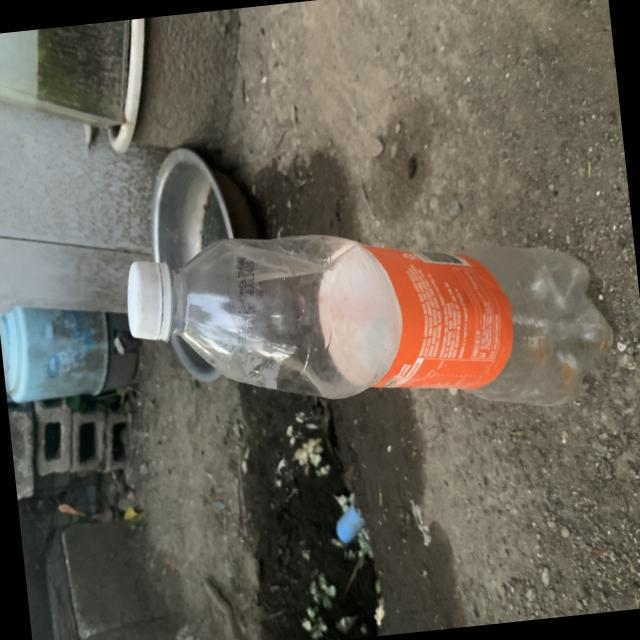Bottle: (127, 234, 613, 404)
